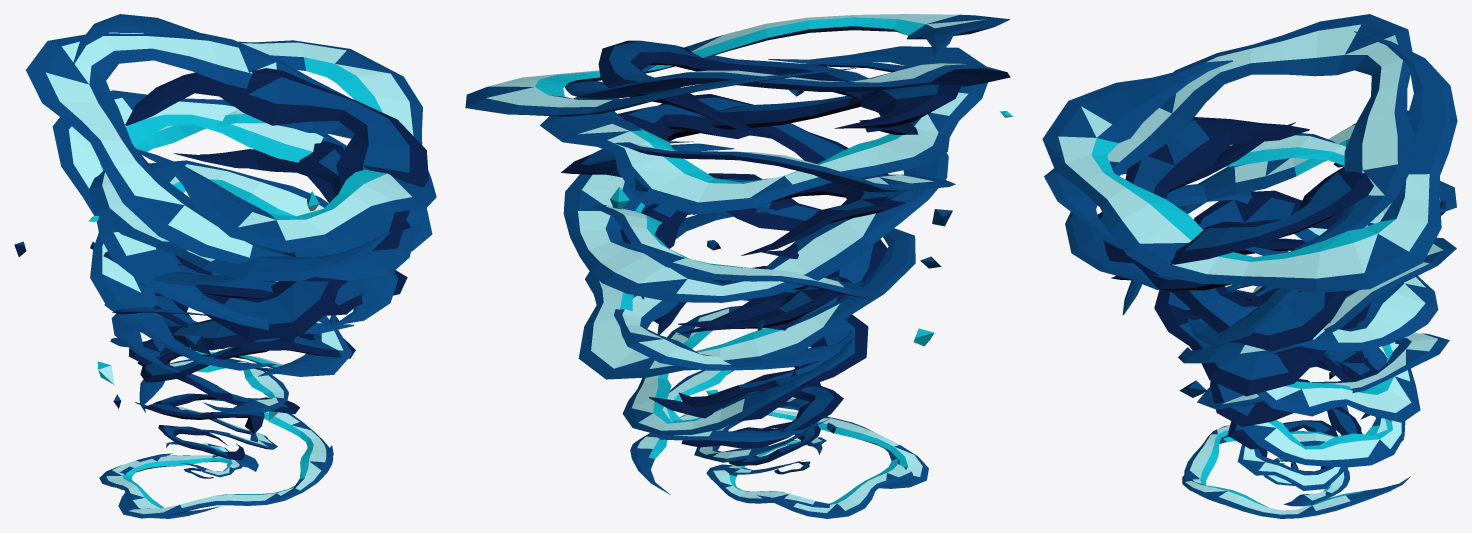
Rendered from Typhoon.fbx.
The picture shows the model from 3 angles, left to right: view 1: azimuth 30°, elevation 25°; view 2: azimuth 150°, elevation 25°; view 3: azimuth 270°, elevation 25°; orthographic projection. The views are drawn at different scales.
Visible parts, largest first — view 1: Wind_Ribbon_22.003, Wind_Ribbon_23.002, Wind_Ribbon_21.003, Wind_Ribbon_18.003, Wind_Ribbon_14.004, Wind_Ribbon_20.003, Wind_Ribbon_17.003, Wind_Ribbon_10.005, Wind_Ribbon_15.004, Wind_Ribbon_06.005, Ground_Shear_4.001, Wind_Ribbon_11.004 (+12 smaller); view 2: Wind_Ribbon_20.003, Wind_Ribbon_16.004, Wind_Ribbon_23.002, Wind_Ribbon_12.004, Wind_Ribbon_21.003, Wind_Ribbon_22.003, Wind_Ribbon_19.003, Wind_Ribbon_13.004, Wind_Ribbon_08.005, Wind_Ribbon_17.003, Wind_Ribbon_10.005, Wind_Ribbon_14.004 (+14 smaller); view 3: Wind_Ribbon_23.002, Wind_Ribbon_22.003, Wind_Ribbon_19.003, Wind_Ribbon_15.004, Wind_Ribbon_21.003, Wind_Ribbon_16.004, Wind_Ribbon_18.003, Wind_Ribbon_12.004, Wind_Ribbon_08.005, Wind_Ribbon_20.003, Wind_Ribbon_14.004, Wind_Ribbon_10.005 (+10 smaller).
Part boxes in pixels (x1=…): Wind_Ribbon_22.003: x1=26, y1=33, x2=423, y2=280; Wind_Ribbon_23.002: x1=73, y1=14, x2=436, y2=252; Wind_Ribbon_21.003: x1=125, y1=68, x2=428, y2=281; Wind_Ribbon_18.003: x1=52, y1=90, x2=432, y2=333; Wind_Ribbon_14.004: x1=90, y1=160, x2=398, y2=370; Wind_Ribbon_20.003: x1=89, y1=110, x2=390, y2=280; Wind_Ribbon_17.003: x1=140, y1=140, x2=403, y2=340; Wind_Ribbon_10.005: x1=111, y1=271, x2=352, y2=376; Wind_Ribbon_15.004: x1=175, y1=255, x2=407, y2=315; Wind_Ribbon_06.005: x1=139, y1=358, x2=288, y2=414; Ground_Shear_4.001: x1=196, y1=399, x2=333, y2=502; Wind_Ribbon_11.004: x1=154, y1=292, x2=355, y2=358; Wind_Ribbon_20.003: x1=540, y1=46, x2=987, y2=214; Wind_Ribbon_16.004: x1=563, y1=143, x2=948, y2=302; Wind_Ribbon_23.002: x1=465, y1=14, x2=1010, y2=116; Wind_Ribbon_12.004: x1=578, y1=206, x2=915, y2=379; Wind_Ribbon_21.003: x1=598, y1=40, x2=918, y2=141; Wind_Ribbon_22.003: x1=565, y1=62, x2=1010, y2=98; Wind_Ribbon_19.003: x1=561, y1=83, x2=961, y2=179; Wind_Ribbon_13.004: x1=621, y1=173, x2=887, y2=330; Wind_Ribbon_08.005: x1=622, y1=306, x2=854, y2=435; Wind_Ribbon_17.003: x1=618, y1=94, x2=888, y2=258; Wind_Ribbon_10.005: x1=614, y1=295, x2=853, y2=370; Wind_Ribbon_14.004: x1=592, y1=200, x2=875, y2=298; Wind_Ribbon_23.002: x1=1042, y1=31, x2=1457, y2=292; Wind_Ribbon_22.003: x1=1065, y1=14, x2=1414, y2=289; Wind_Ribbon_19.003: x1=1125, y1=117, x2=1350, y2=351; Wind_Ribbon_15.004: x1=1154, y1=190, x2=1370, y2=396; Wind_Ribbon_21.003: x1=1098, y1=122, x2=1373, y2=264; Wind_Ribbon_16.004: x1=1166, y1=184, x2=1438, y2=351; Wind_Ribbon_18.003: x1=1122, y1=110, x2=1408, y2=346; Wind_Ribbon_12.004: x1=1257, y1=250, x2=1420, y2=422; Wind_Ribbon_08.005: x1=1240, y1=347, x2=1405, y2=467; Wind_Ribbon_20.003: x1=1044, y1=133, x2=1456, y2=255; Wind_Ribbon_14.004: x1=1178, y1=237, x2=1456, y2=363; Wind_Ribbon_10.005: x1=1197, y1=327, x2=1449, y2=409.
Bounding box in the file's own units: 971 × 965 × 891.
